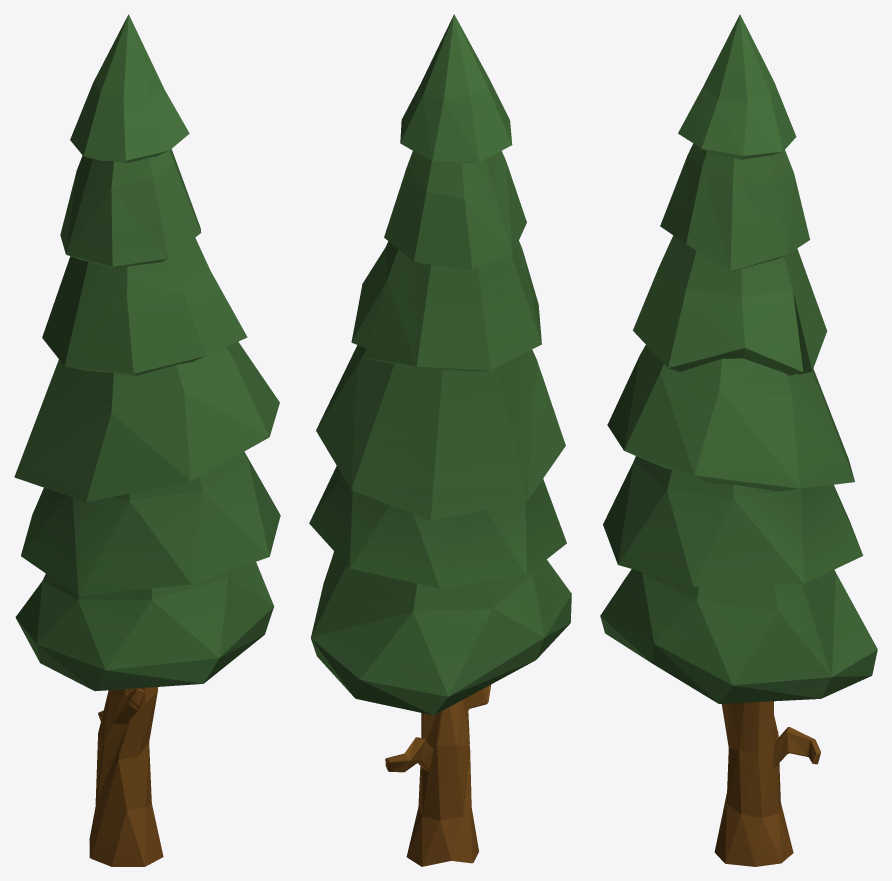
Rendered from tree_spire.glb.
3 renders of one model, left to right at view 1: azimuth 30°, elevation 25°; view 2: azimuth 150°, elevation 25°; view 3: azimuth 270°, elevation 25°, orthographic.
Visible parts, largest first — view 1: Tree_8_AA; view 2: Tree_8_AA; view 3: Tree_8_AA.
Boxes of the visible parts, left/top/right/bottom form: Tree_8_AA: left=14, top=14, right=280, bottom=866; Tree_8_AA: left=309, top=14, right=571, bottom=866; Tree_8_AA: left=600, top=14, right=877, bottom=866.
Bounding box in the file's own units: 1.15 × 4.05 × 1.22.
Materials: 1 (1 with a texture image).
